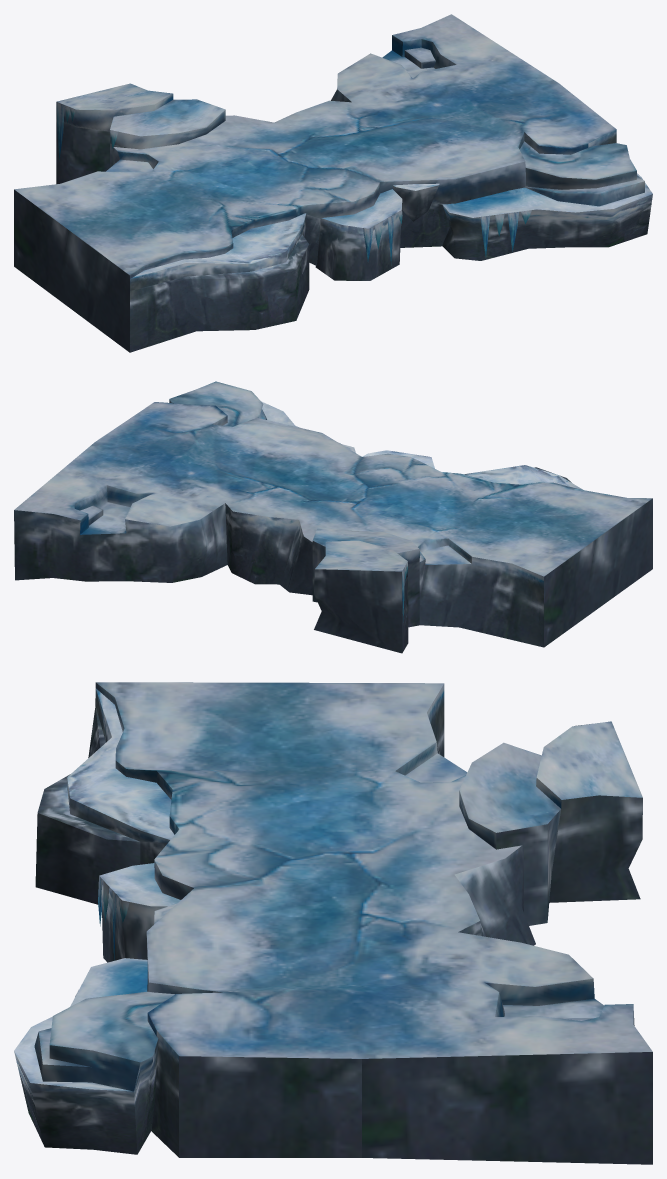
File: yw_wanglingzhita_bingqiao.FBX
3 views of the same model, one above another, from view 1: azimuth 30°, elevation 25°; view 2: azimuth 150°, elevation 25°; view 3: azimuth 270°, elevation 25° (orthographic). The views are drawn at different scales.
Visible parts, largest first — view 1: yw_wanglingzhita_bingqiao; view 2: yw_wanglingzhita_bingqiao; view 3: yw_wanglingzhita_bingqiao.
Boxes of the visible parts, x1,y1,x2,y2 form: yw_wanglingzhita_bingqiao: [14, 14, 652, 352]; yw_wanglingzhita_bingqiao: [14, 381, 652, 653]; yw_wanglingzhita_bingqiao: [14, 682, 652, 1164].
Size of the model in its own units: 2564 by 471 by 1838.
